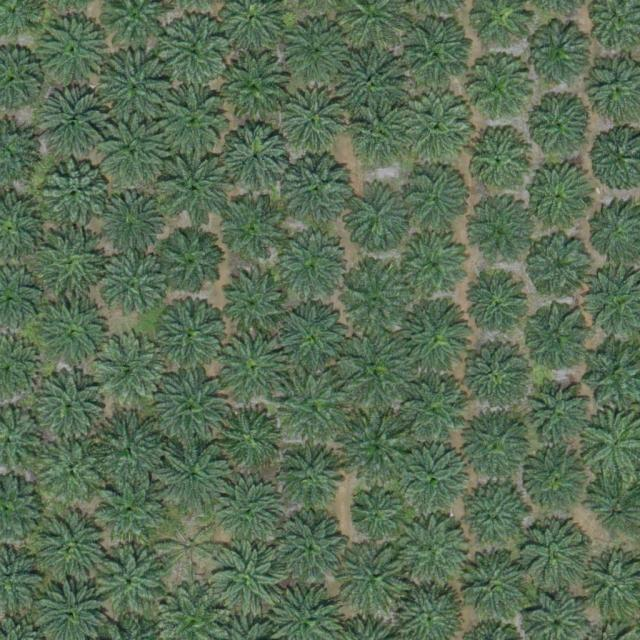Healthy: (396, 92, 474, 171), (31, 228, 109, 307), (38, 297, 116, 376), (393, 375, 471, 454), (339, 411, 417, 490), (28, 364, 106, 443), (99, 54, 170, 125), (157, 86, 228, 157), (397, 302, 468, 373), (460, 342, 531, 413), (97, 549, 168, 620), (217, 333, 288, 404), (401, 16, 471, 87), (335, 47, 406, 117), (279, 87, 349, 158), (221, 56, 291, 127), (161, 15, 231, 86), (36, 13, 107, 83), (37, 90, 107, 161), (401, 162, 471, 233), (402, 231, 472, 302), (342, 183, 412, 254), (283, 155, 353, 226), (156, 299, 227, 369), (95, 186, 165, 257), (101, 254, 171, 325), (461, 413, 532, 483), (458, 554, 528, 625), (397, 516, 467, 587), (340, 543, 410, 614), (341, 335, 411, 406), (40, 511, 110, 582), (95, 476, 165, 547), (91, 415, 162, 485), (95, 333, 165, 404), (157, 371, 227, 442), (159, 440, 229, 511), (217, 481, 287, 552), (277, 514, 347, 585), (466, 130, 536, 200), (464, 55, 534, 125), (99, 122, 169, 192), (222, 127, 292, 197), (462, 198, 532, 268), (340, 267, 410, 337), (217, 200, 287, 270), (277, 238, 347, 308), (280, 302, 350, 372), (223, 270, 293, 340), (160, 158, 230, 228), (42, 160, 112, 230), (522, 449, 592, 519), (519, 525, 589, 595), (460, 487, 530, 557), (398, 447, 468, 517), (38, 434, 108, 504), (212, 542, 282, 612), (279, 370, 349, 440), (527, 22, 590, 85), (285, 19, 348, 82), (530, 233, 593, 296), (469, 277, 532, 340), (530, 383, 593, 446), (527, 164, 589, 227), (161, 231, 223, 294), (524, 309, 586, 372), (280, 445, 343, 507), (528, 97, 590, 159), (219, 409, 281, 471), (352, 492, 399, 540), (354, 112, 401, 159)
Yellow: (159, 517, 222, 580)
